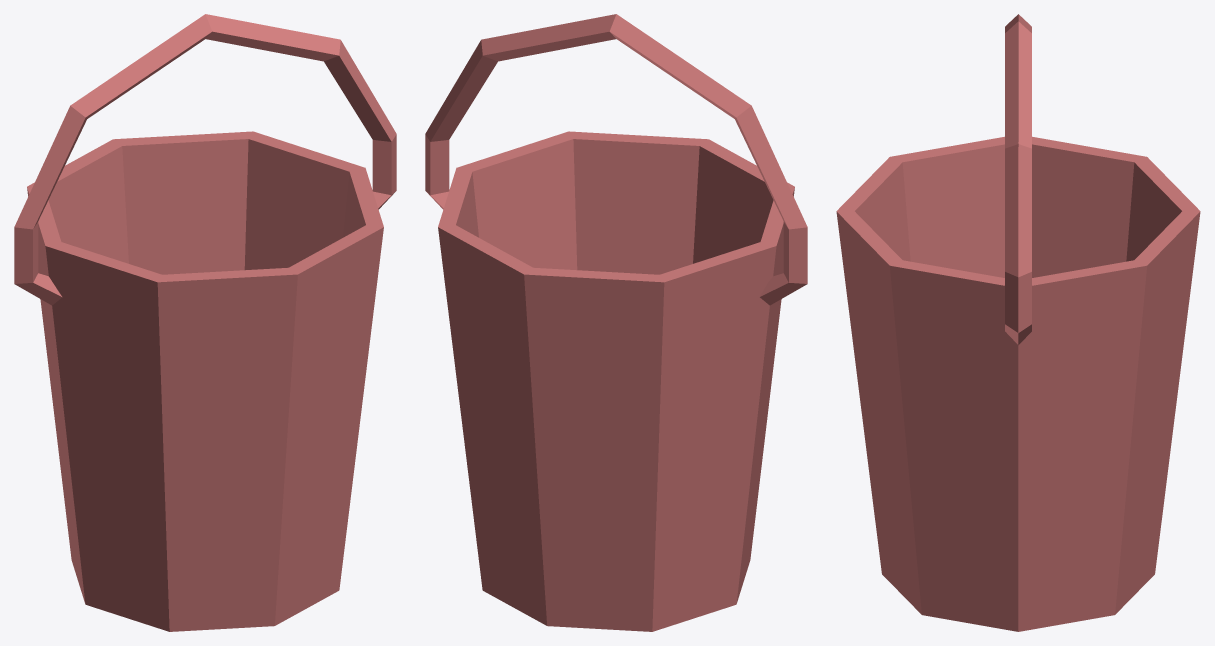
File: Bucket4.fbx
3 renders of one model, left to right at view 1: azimuth 30°, elevation 25°; view 2: azimuth 150°, elevation 25°; view 3: azimuth 270°, elevation 25°, orthographic.
Parts seen in each view (by area): view 1: Cylinder, Cylinder.001; view 2: Cylinder, Cylinder.001; view 3: Cylinder, Cylinder.001.
Part boxes in pixels (x1,y1,x2,y2): Cylinder: [27, 131, 383, 631]; Cylinder.001: [14, 14, 396, 305]; Cylinder: [438, 131, 794, 631]; Cylinder.001: [425, 14, 807, 305]; Cylinder: [836, 136, 1200, 631]; Cylinder.001: [1005, 14, 1031, 344].
Size of the model in its own units: 0.717 by 1.01 by 0.6.
